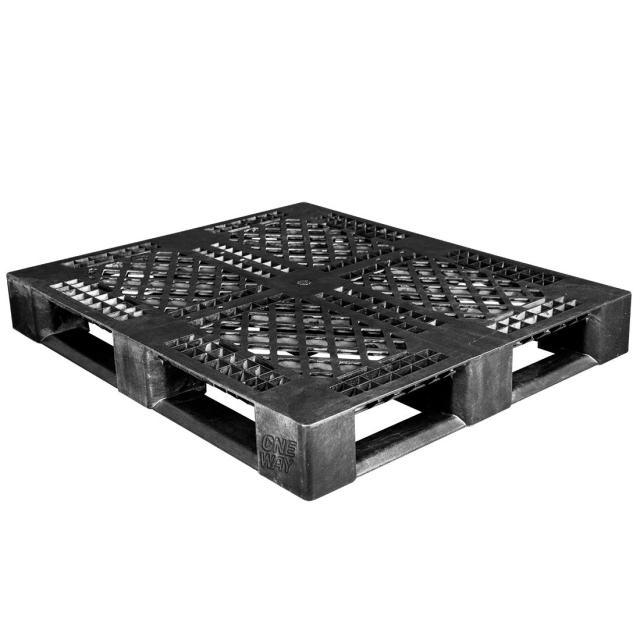non-igps: (0, 194, 635, 506)
